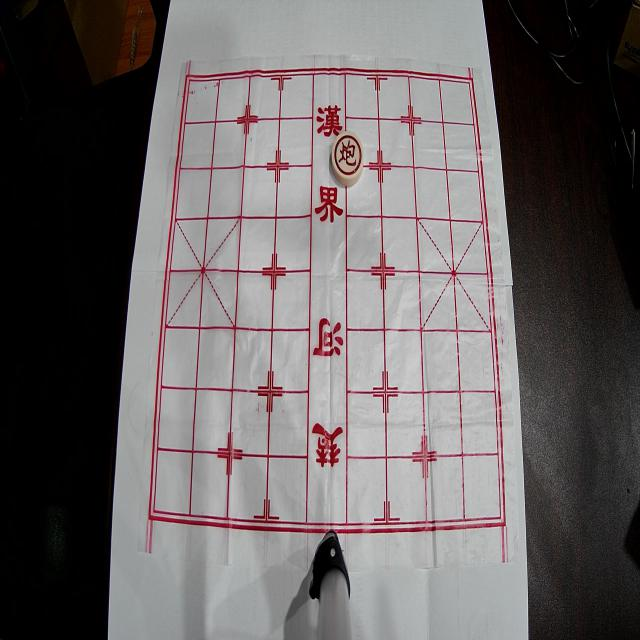red-cannon: (332, 131, 364, 186)
